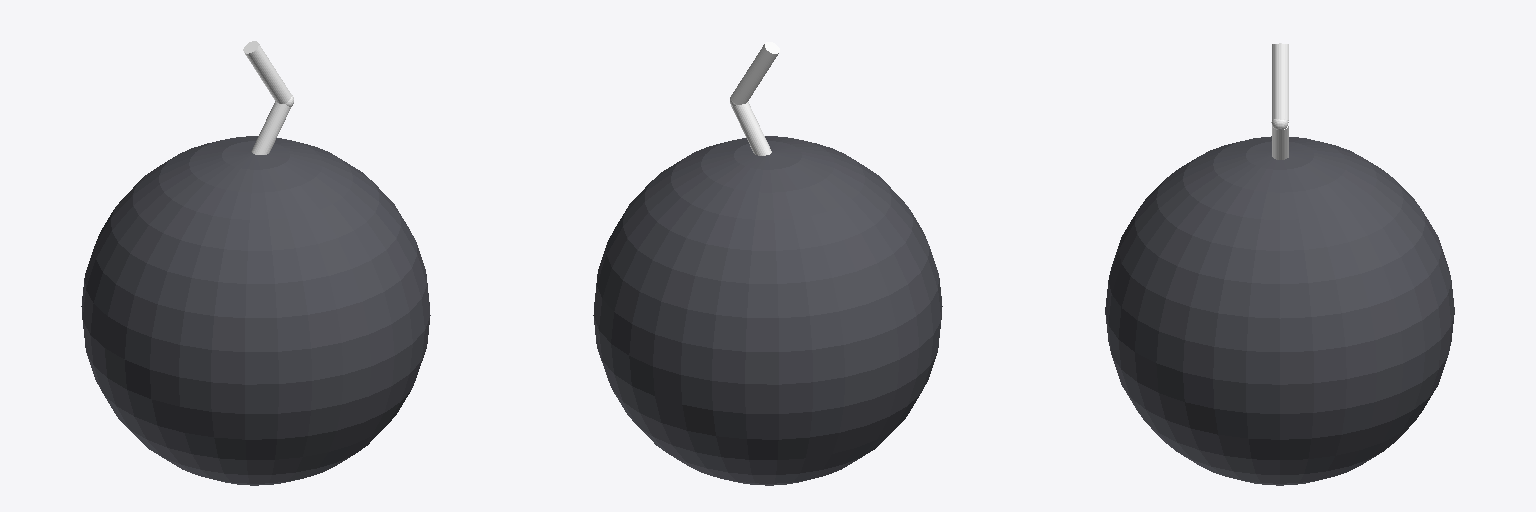
The picture shows the model from 3 angles: view 1: azimuth 30°, elevation 25°; view 2: azimuth 150°, elevation 25°; view 3: azimuth 270°, elevation 25°; orthographic projection.
Visible parts, largest first — view 1: 球; view 2: 球; view 3: 球.
Part boxes in pixels (x1,y1,x2,y2): 球: (81, 41, 430, 485); 球: (593, 42, 942, 485); 球: (1105, 43, 1454, 485).
Bounding box in the file's own units: 2 × 2.69 × 2.
Materials: 1 (1 with a texture image).